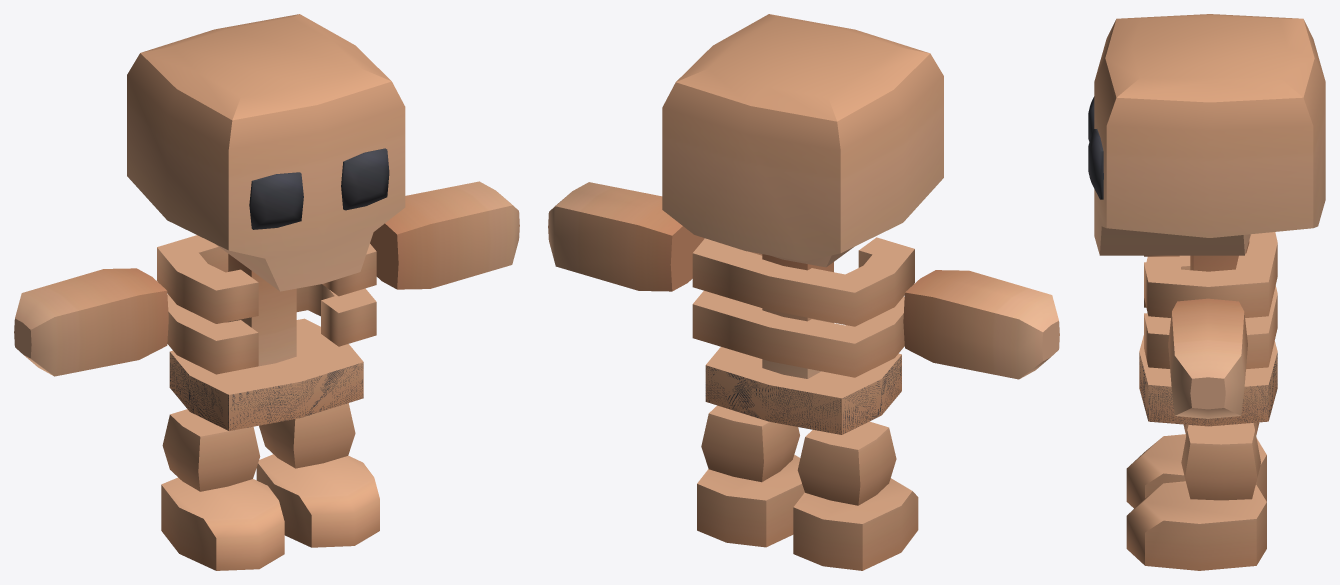
The model's file is skeleton.glb.
3 renders of one model, left to right at view 1: azimuth 30°, elevation 25°; view 2: azimuth 150°, elevation 25°; view 3: azimuth 270°, elevation 25°, orthographic.
Visible parts, largest first — view 1: head, torso, leg-left (×2), arm-right, arm-left; view 2: head, torso, leg-left (×2), arm-right, arm-left; view 3: head, leg-left (×2), torso, arm-left.
Boxes of the visible parts, <box> form: head: <box>127,14,405,291</box>; torso: <box>157,235,376,430</box>; leg-left (×2): <box>161,403,379,570</box>; arm-right: <box>14,268,168,376</box>; arm-left: <box>370,181,519,289</box>; head: <box>662,14,943,267</box>; torso: <box>692,237,914,434</box>; leg-left (×2): <box>697,405,918,570</box>; arm-right: <box>903,270,1059,379</box>; arm-left: <box>548,182,704,291</box>; head: <box>1088,14,1325,255</box>; leg-left (×2): <box>1126,422,1266,570</box>; torso: <box>1139,232,1277,426</box>; arm-left: <box>1168,298,1247,418</box>.
Size of the model in its own units: 0.7608 by 0.7002 by 0.3159.
1 material, 1 textured.
